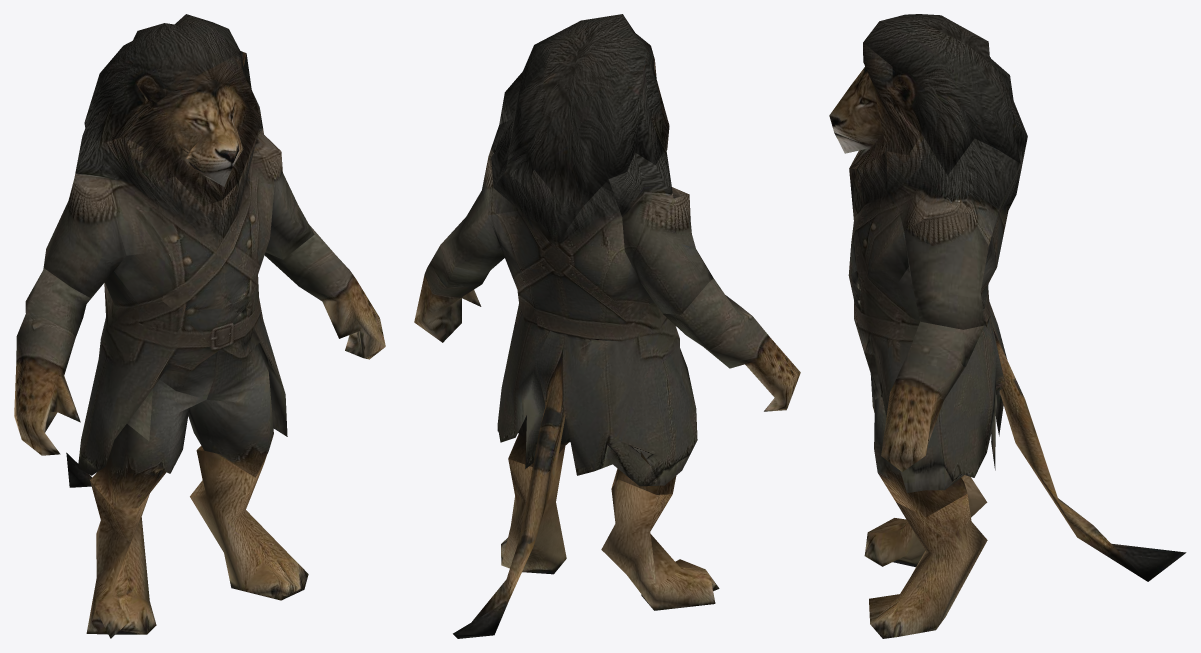
File: cavalry_base_gibs.glb
3 views of the same model, side by side, from view 1: azimuth 30°, elevation 25°; view 2: azimuth 150°, elevation 25°; view 3: azimuth 270°, elevation 25° (orthographic). The views are drawn at different scales.
Visible parts, largest first — view 1: Body.001, Head.001, Forarm.R.001, Leg.L.001, Leg.R.001, Forarm.L.001, Arm.R.001, upleg.L.001, Upleg.R.001, Arm.L.001; view 2: Body.001, Head.001, Leg.R.001, Arm.R.001, Forarm.R.001, Leg.L.001, Forarm.L.001, Arm.L.001, upleg.L.001, Upleg.R.001; view 3: Body.001, Head.001, Leg.L.001, Arm.L.001, Forarm.L.001, Leg.R.001, upleg.L.001.
Boxes of the visible parts, box(x1,y1,x2,y2) form: Body.001: box(66, 93, 287, 487); Head.001: box(82, 14, 260, 206); Forarm.R.001: box(14, 268, 89, 455); Leg.L.001: box(190, 450, 308, 600); Leg.R.001: box(86, 481, 156, 638); Forarm.L.001: box(264, 225, 385, 359); Arm.R.001: box(43, 178, 126, 302); upleg.L.001: box(188, 373, 273, 477); Upleg.R.001: box(90, 408, 189, 509); Arm.L.001: box(265, 152, 314, 259); Body.001: box(453, 118, 697, 638); Head.001: box(499, 14, 669, 207); Leg.R.001: box(601, 479, 719, 610); Arm.R.001: box(622, 194, 713, 314); Forarm.R.001: box(663, 278, 800, 411); Leg.L.001: box(501, 446, 566, 574); Forarm.L.001: box(414, 245, 489, 342); Arm.L.001: box(440, 157, 504, 274); upleg.L.001: box(508, 415, 570, 466); Upleg.R.001: box(612, 451, 676, 494); Body.001: box(848, 134, 1186, 581); Head.001: box(829, 14, 1027, 175); Leg.L.001: box(869, 494, 987, 638); Arm.L.001: box(904, 211, 988, 329); Forarm.L.001: box(881, 321, 984, 471); Leg.R.001: box(864, 475, 987, 567); upleg.L.001: box(874, 396, 967, 517).
Size of the model in its own units: 0.654 by 0.9736 by 0.5516.
Materials: 2 (1 with a texture image).
